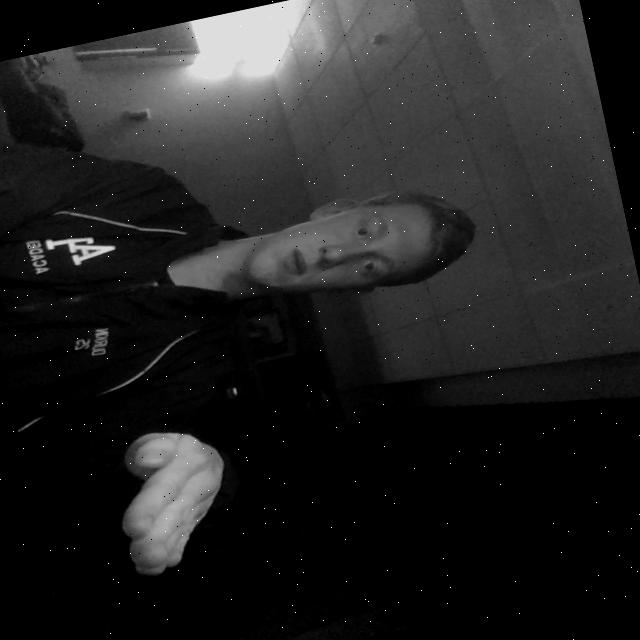paper: (90, 410, 259, 590)
